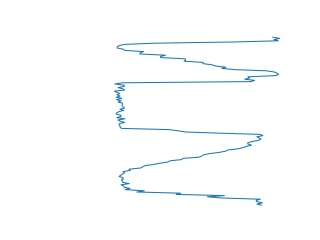distributaryChannelFill: (111, 73, 265, 144)
mouthBar: (113, 33, 282, 78)
underwaterDistributaryChannel: (114, 139, 267, 208)
